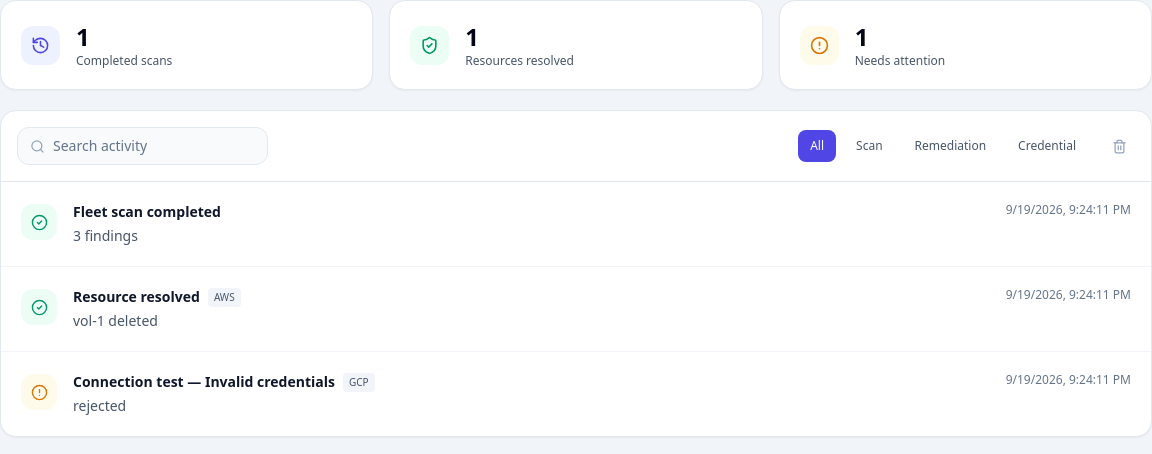
it: ActivityLog › filters by category
Click the button "credential". click: (1047,146)
box: [1006,130,1088,162]
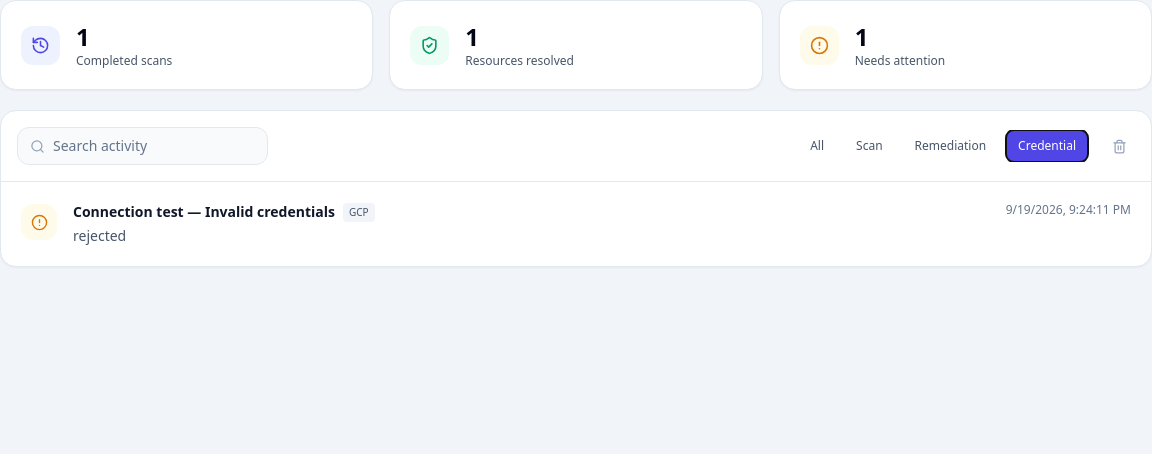
Expected: the heading "Connection test — Invalid credentials" is shown, [73,202,335,222]
Result: the heading "Fleet scan completed" is gone
